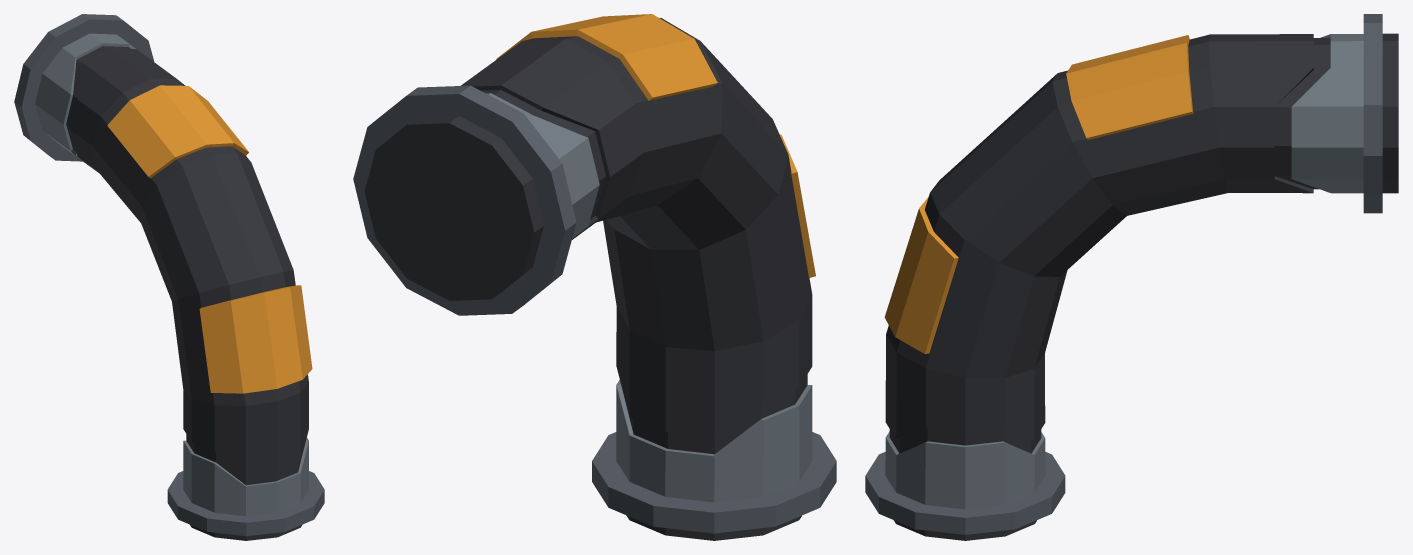
Rendered from SM_Water_Angle_02.glb.
3 renders of one model, left to right at view 1: azimuth 30°, elevation 25°; view 2: azimuth 150°, elevation 25°; view 3: azimuth 270°, elevation 25°, orthographic. The views are drawn at different scales.
Parts seen in each view (by area): view 1: SM_Water_Angle_02; view 2: SM_Water_Angle_02; view 3: SM_Water_Angle_02.
Part boxes in pixels (x1=…): SM_Water_Angle_02: x1=14, y1=14, x2=324, y2=540; SM_Water_Angle_02: x1=353, y1=14, x2=836, y2=540; SM_Water_Angle_02: x1=865, y1=14, x2=1398, y2=540.
Size of the model in its own units: 0.7487 by 2 by 2.
1 material, 1 textured.
